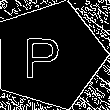P_N: (30, 30, 69, 81)
